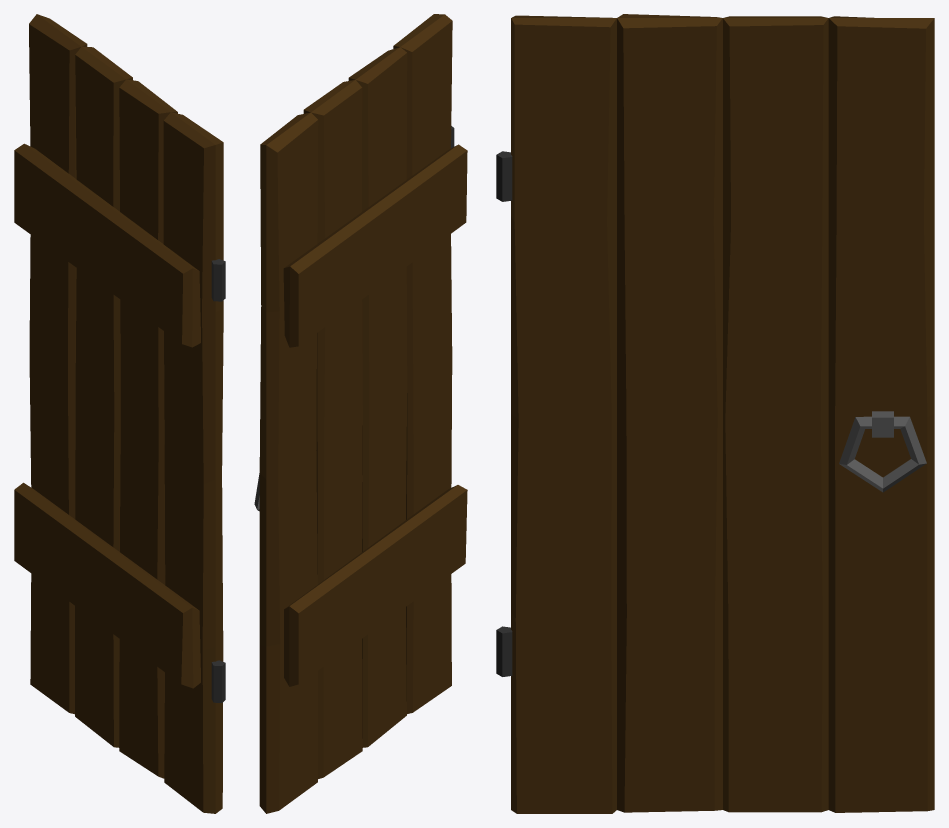
The model's file is woodenDoor.glb.
3 renders of one model, left to right at view 1: azimuth 30°, elevation 25°; view 2: azimuth 150°, elevation 25°; view 3: azimuth 270°, elevation 25°, orthographic. The views are drawn at different scales.
Visible parts, largest first — view 1: Cube; view 2: Cube; view 3: Cube.
Boxes of the visible parts, x1=… form: Cube: x1=14, y1=14, x2=225, y2=813; Cube: x1=254, y1=14, x2=467, y2=813; Cube: x1=496, y1=14, x2=934, y2=813.
Size of the model in its own units: 15.09 by 200 by 100.
